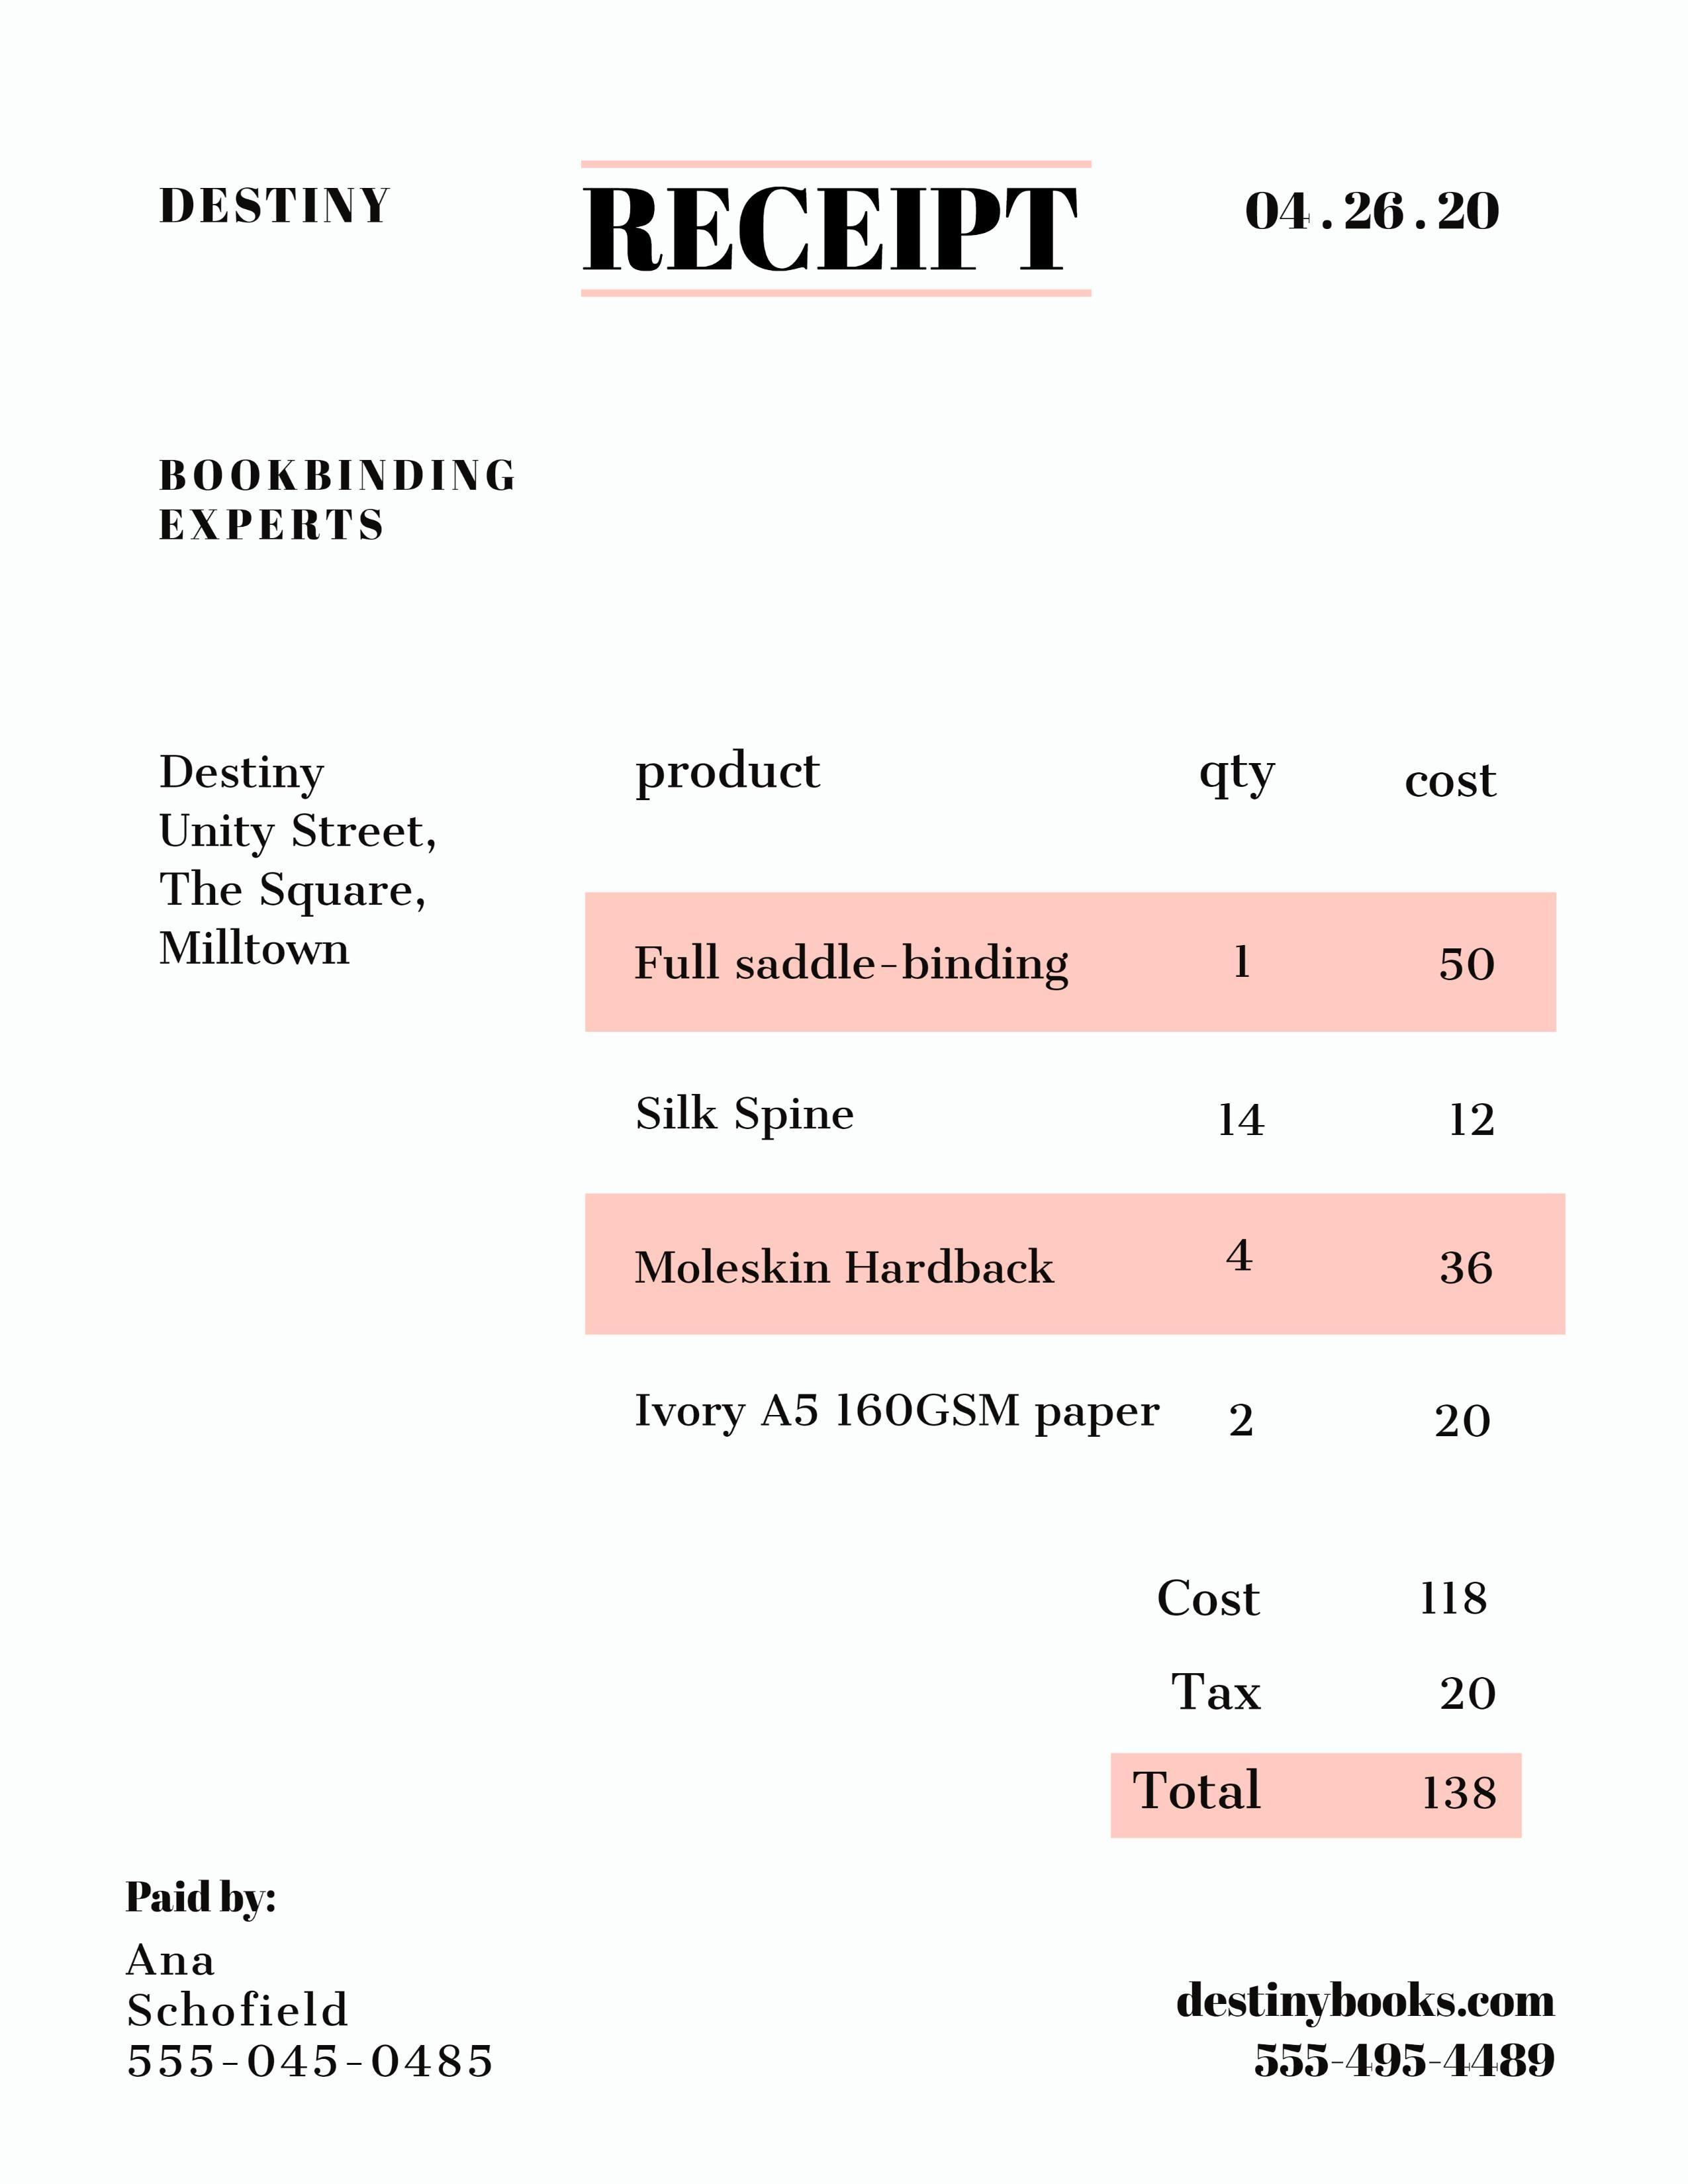ROI: (609, 751, 1513, 1446), (106, 1876, 516, 2108), (1125, 1572, 1503, 1817), (1152, 1956, 1562, 2101), (116, 1873, 384, 2038), (1228, 185, 1523, 248)
